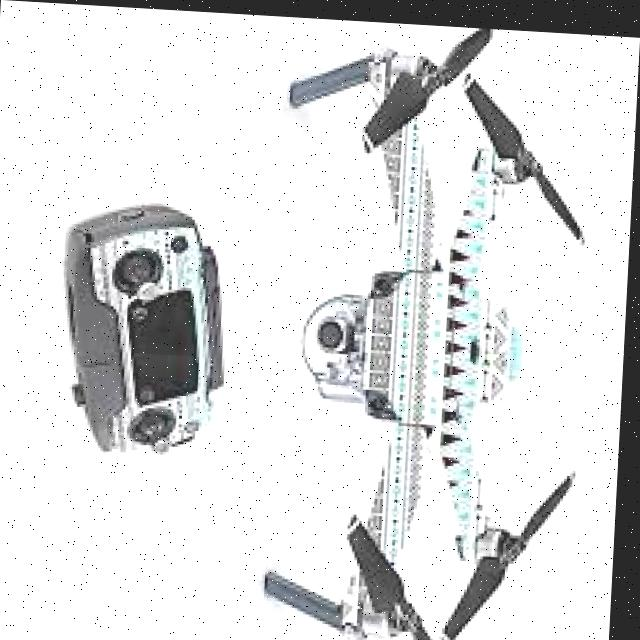drone: (247, 13, 607, 640)
